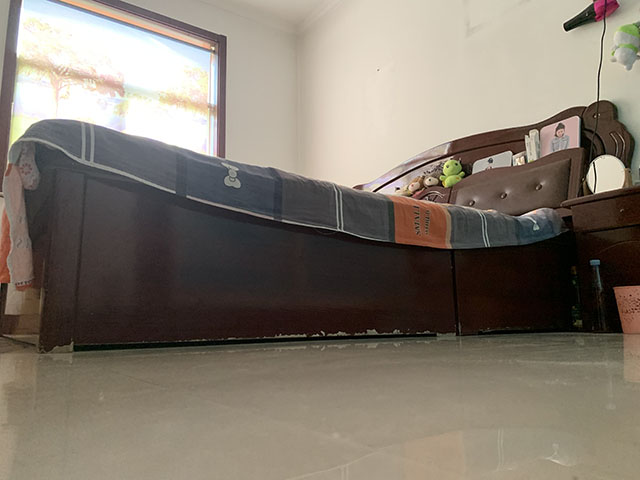bed: (3, 99, 634, 355)
cabinet: (560, 184, 640, 331)
